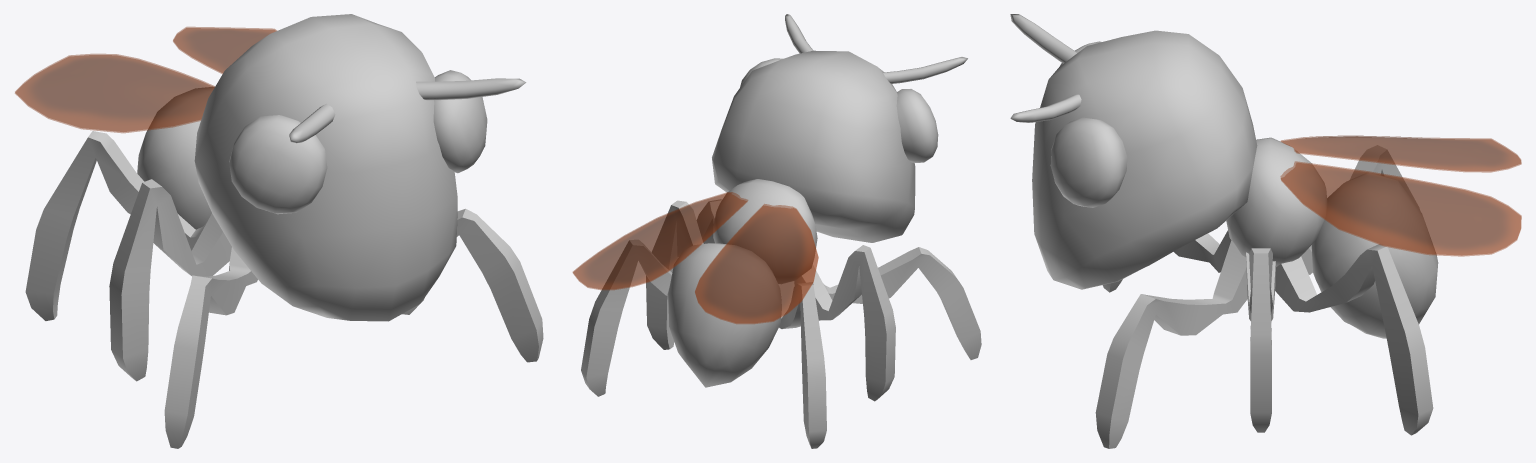
The model's file is bee.FBX.
The picture shows the model from 3 angles, left to right: view 1: azimuth 30°, elevation 25°; view 2: azimuth 150°, elevation 25°; view 3: azimuth 270°, elevation 25°; orthographic projection. The views are drawn at different scales.
Parts seen in each view (by area): view 1: bee; view 2: bee; view 3: bee.
Boxes of the visible parts, x1,y1,x2,y2 form: bee: [15, 14, 543, 448]; bee: [572, 14, 981, 448]; bee: [1010, 14, 1521, 448].
Bounding box in the file's own units: 38.02 × 34.78 × 49.
